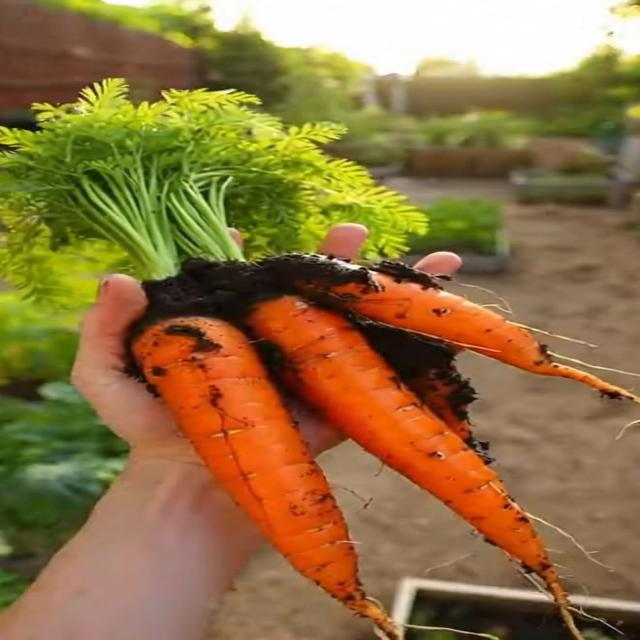carrot: (245, 296, 580, 637), (131, 317, 398, 639), (265, 255, 639, 403), (358, 320, 493, 462)
